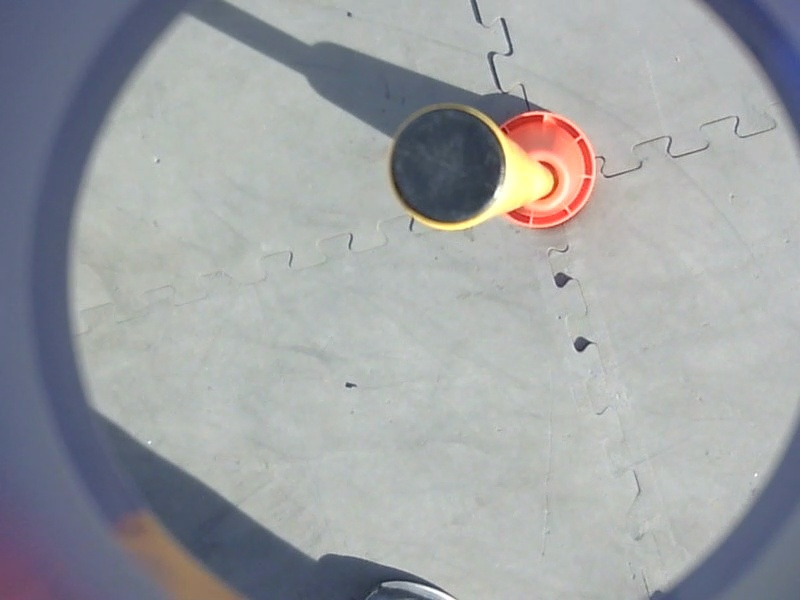tip: (382, 96, 514, 239)
